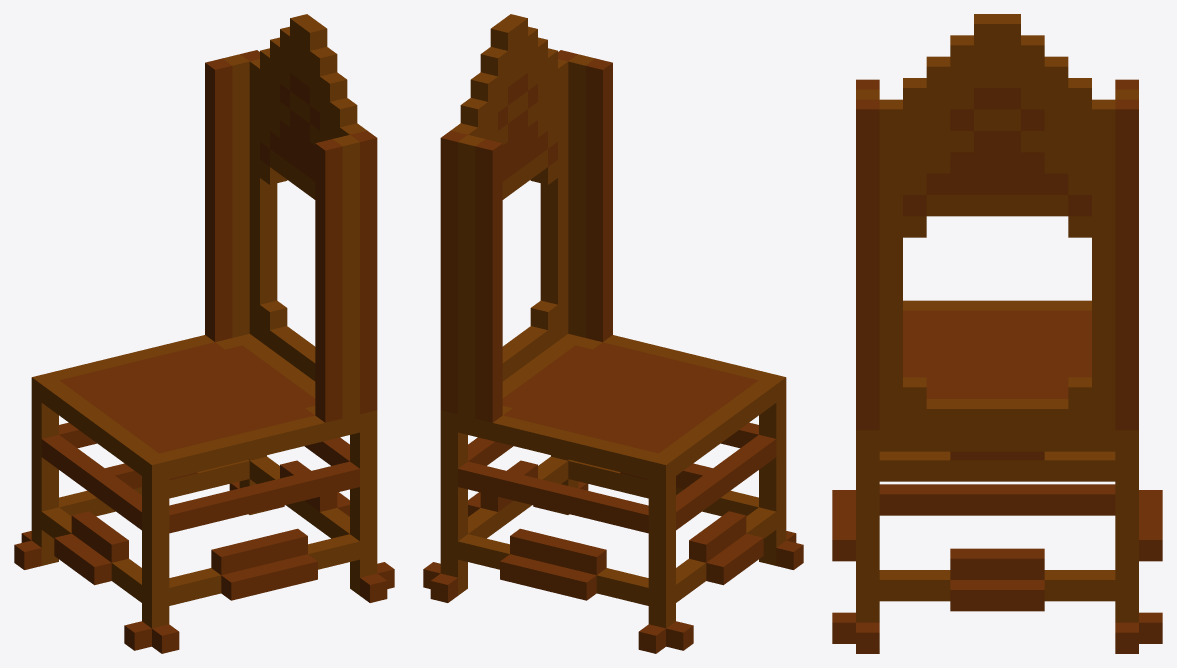
Rendered from chair2.obj.
3 renders of one model, left to right at view 1: azimuth 30°, elevation 25°; view 2: azimuth 150°, elevation 25°; view 3: azimuth 270°, elevation 25°, orthographic. The views are drawn at different scales.
Bounding box in the file's own units: 1.5 × 2.9 × 1.4.
Materials: 1 (1 with a texture image).
